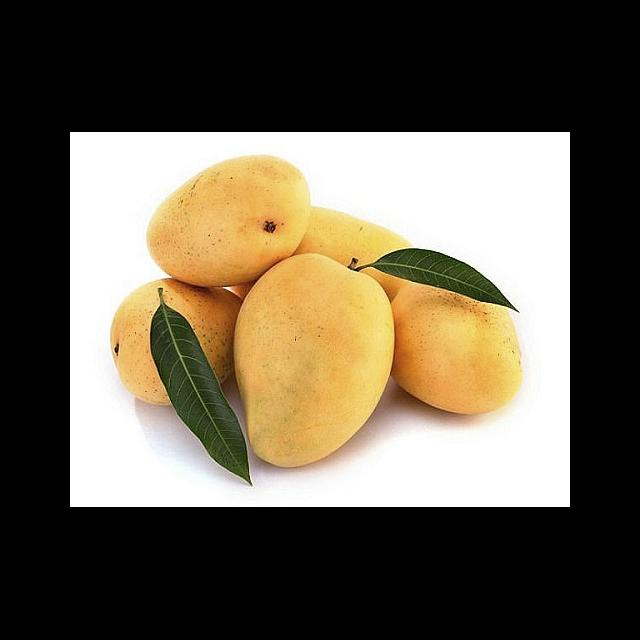mango: (234, 254, 394, 467), (147, 156, 310, 286), (391, 284, 520, 414), (295, 207, 411, 266), (363, 268, 406, 300)
